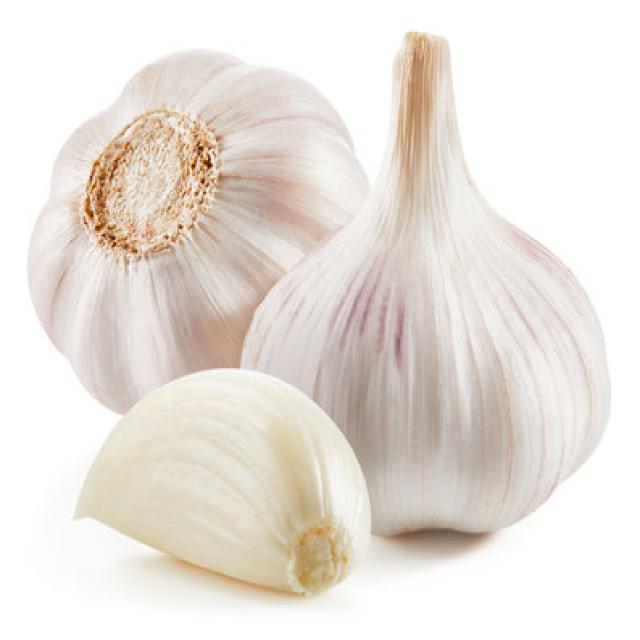Garlic: (239, 28, 611, 537), (26, 46, 371, 414), (72, 367, 370, 598)
